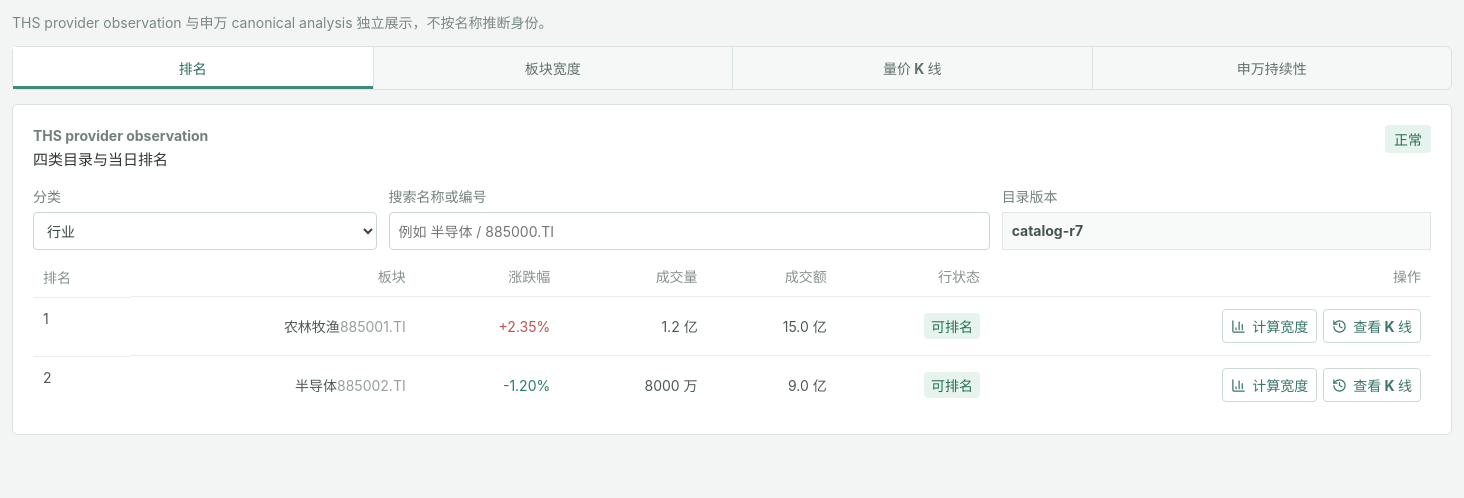
Document05SectorsPage › renders all four views and a searchable four-classification THS ranking
The width and height of the screenshot is (1464, 498).
Type "半导体" into the search field labelled "搜索名称或编号" at {"x": 689, "y": 231}, box [388,212,990,250]
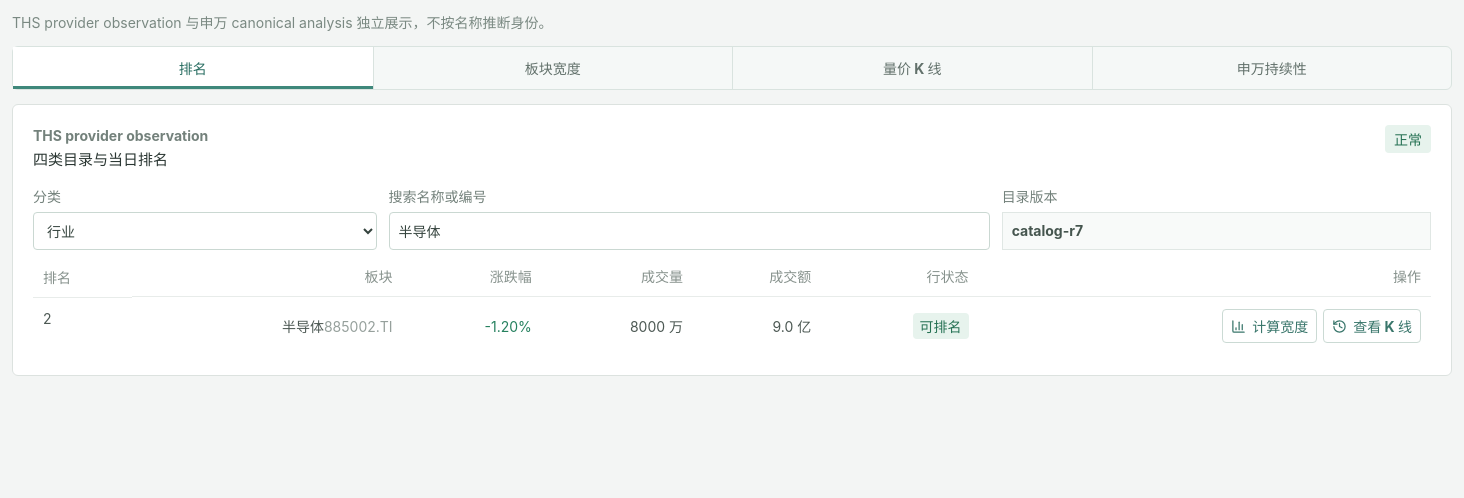
Expected: the element with class "ths-ranking-scroll" shows "半导体", [282,318,324,335]
Result: the text with class "ths-ranking-scroll" no longer shows "农林牧渔"
Select "概念" in the dropdown labelled "分类" at {"x": 205, "y": 231}, box [33,212,376,250]
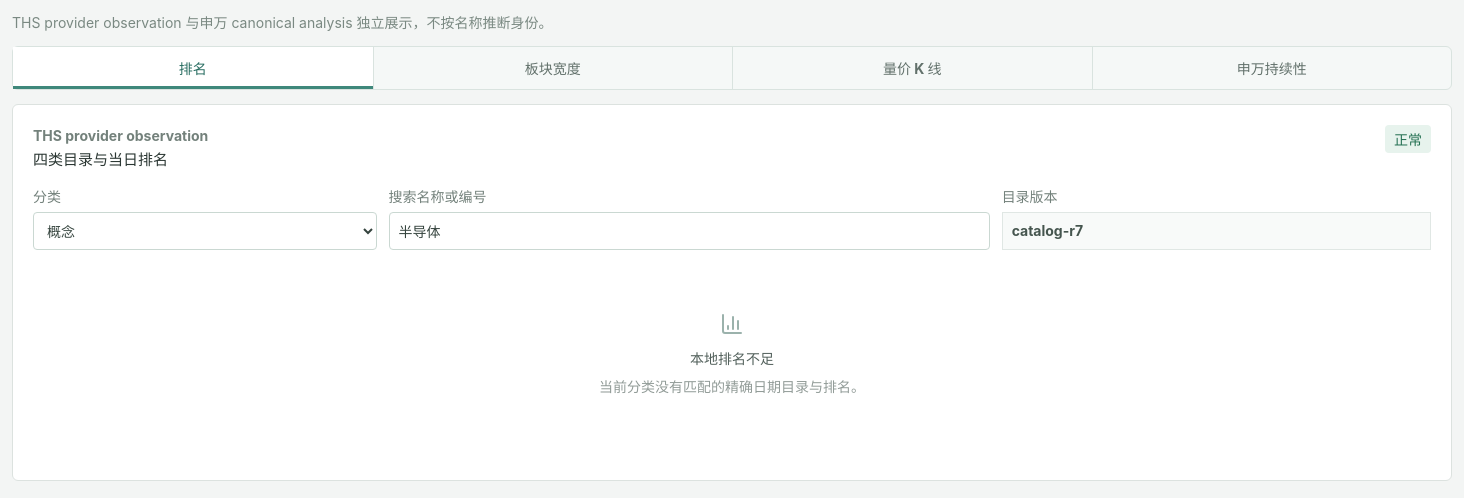
Result: the text "本地排名不足" is shown at [690,348,774,368]
Clear the search field labelled "搜索名称或编号" at {"x": 689, "y": 231}, box [388,212,990,250]
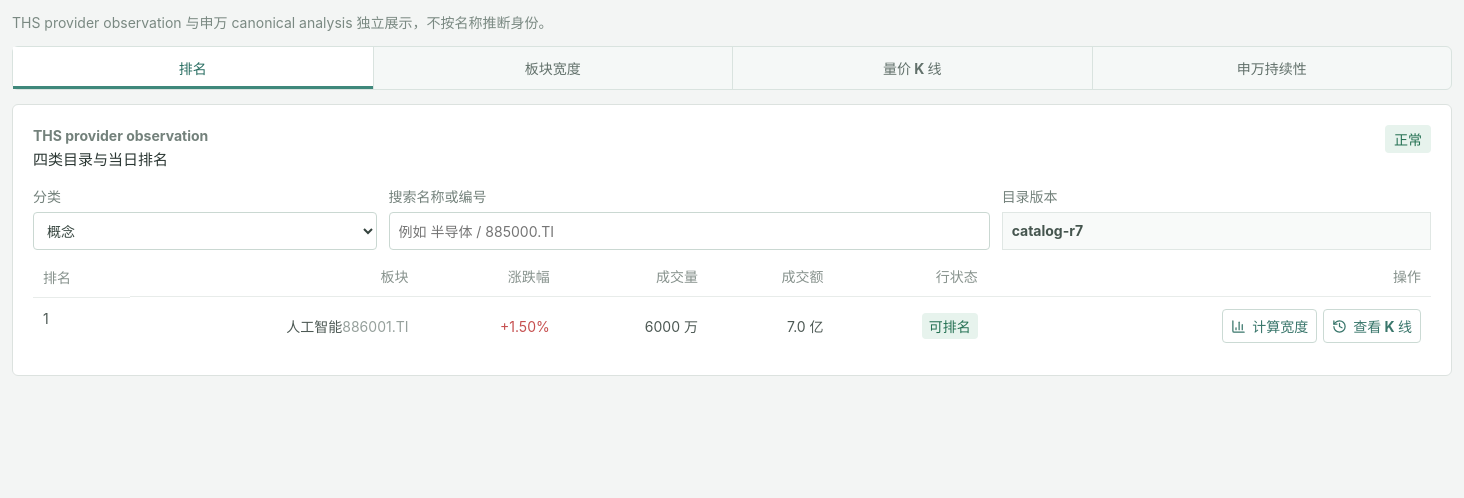
Result: the element with class "ths-ranking-scroll" shows "人工智能" at [286,318,342,335]
